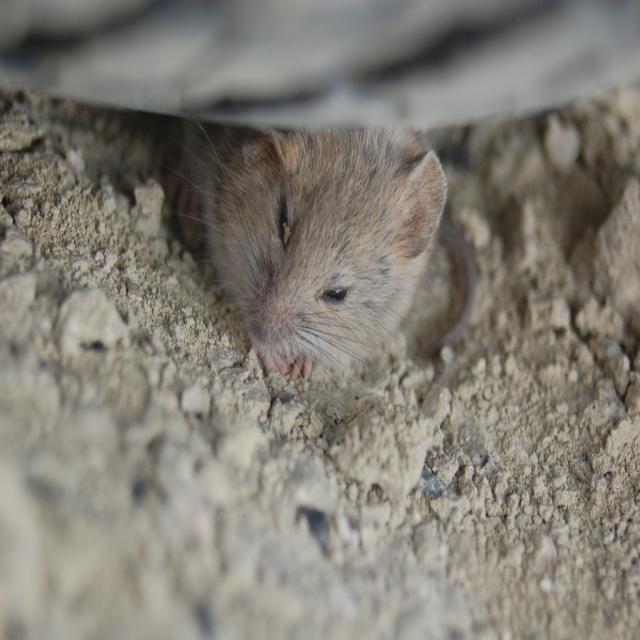rat: (157, 122, 475, 384)
